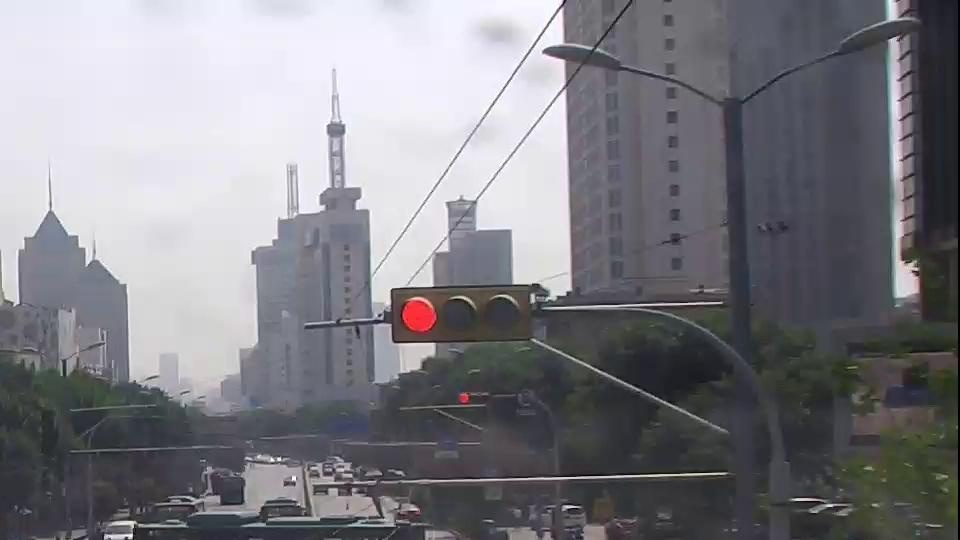red: (400, 293, 437, 332), (456, 391, 472, 403)
